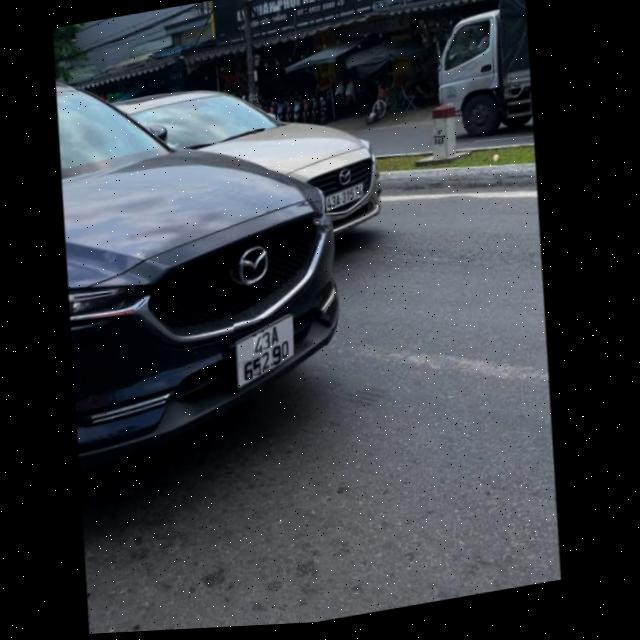car: (39, 40, 392, 489), (102, 43, 398, 284), (414, 0, 533, 164)
plate: (223, 309, 307, 392), (317, 175, 370, 215)
